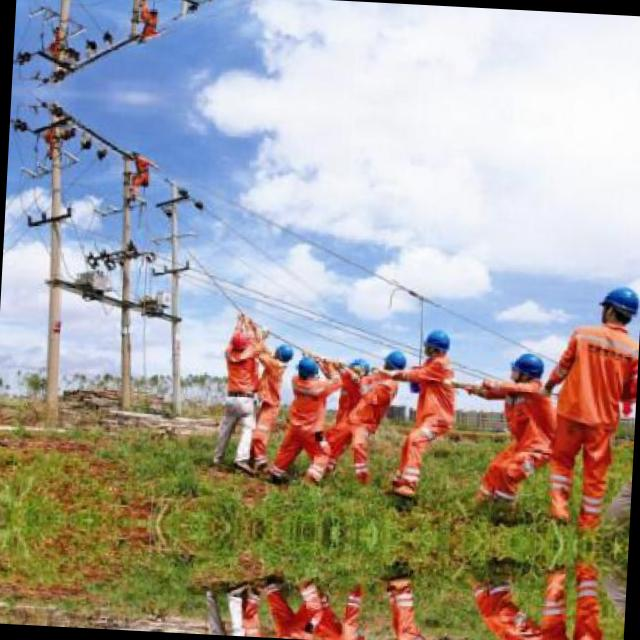helmet: (597, 278, 640, 328), (507, 347, 547, 383), (417, 324, 452, 358), (344, 353, 374, 383), (265, 338, 294, 368), (382, 348, 408, 378), (226, 327, 252, 354), (296, 352, 321, 379)
